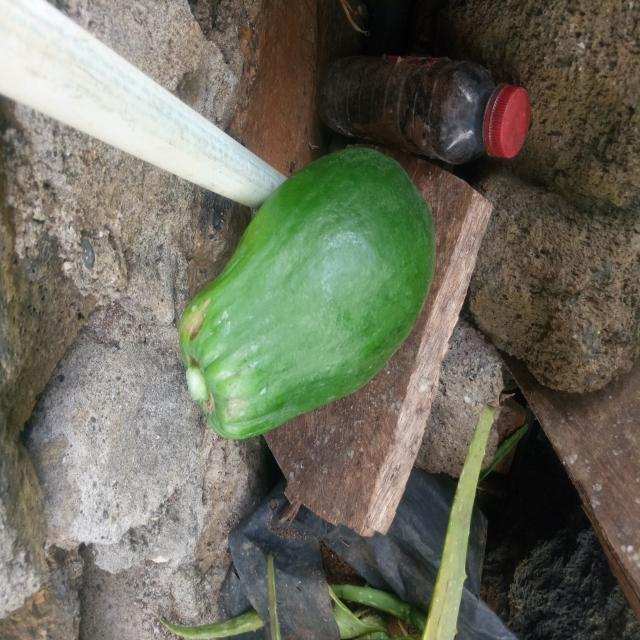Pepaya unrippen: (153, 128, 441, 446)
